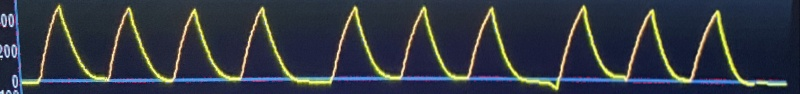normal_volume: (27, 0, 759, 91)
